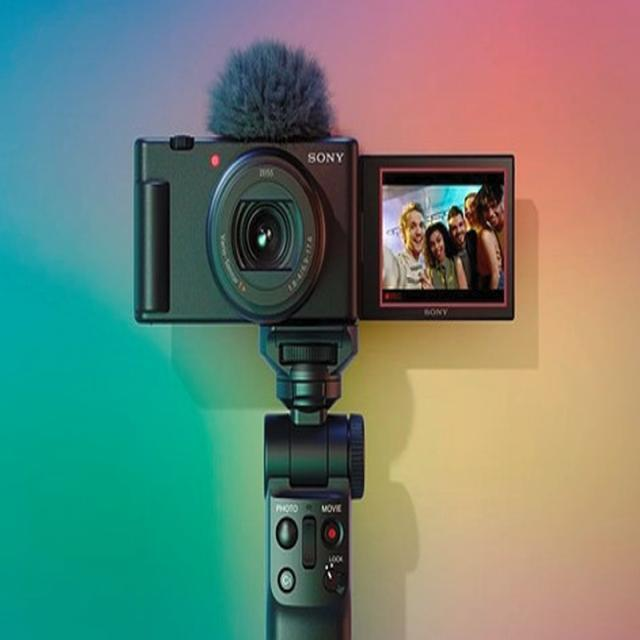hidden camera: (229, 180, 304, 284)
